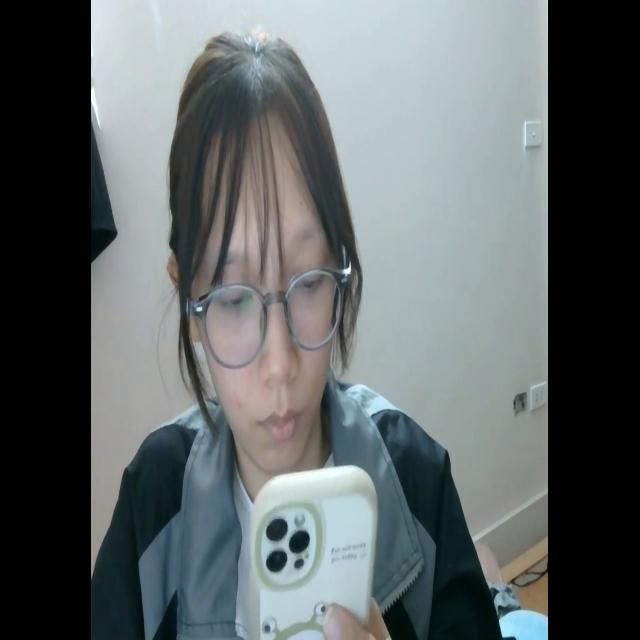phone: (246, 452, 379, 640)
student: (88, 26, 509, 640)
